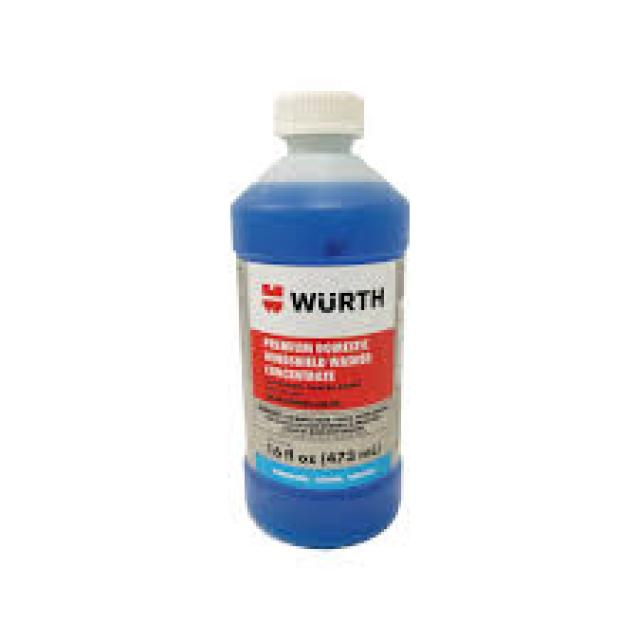winwinshield_washer: (227, 82, 413, 549)
